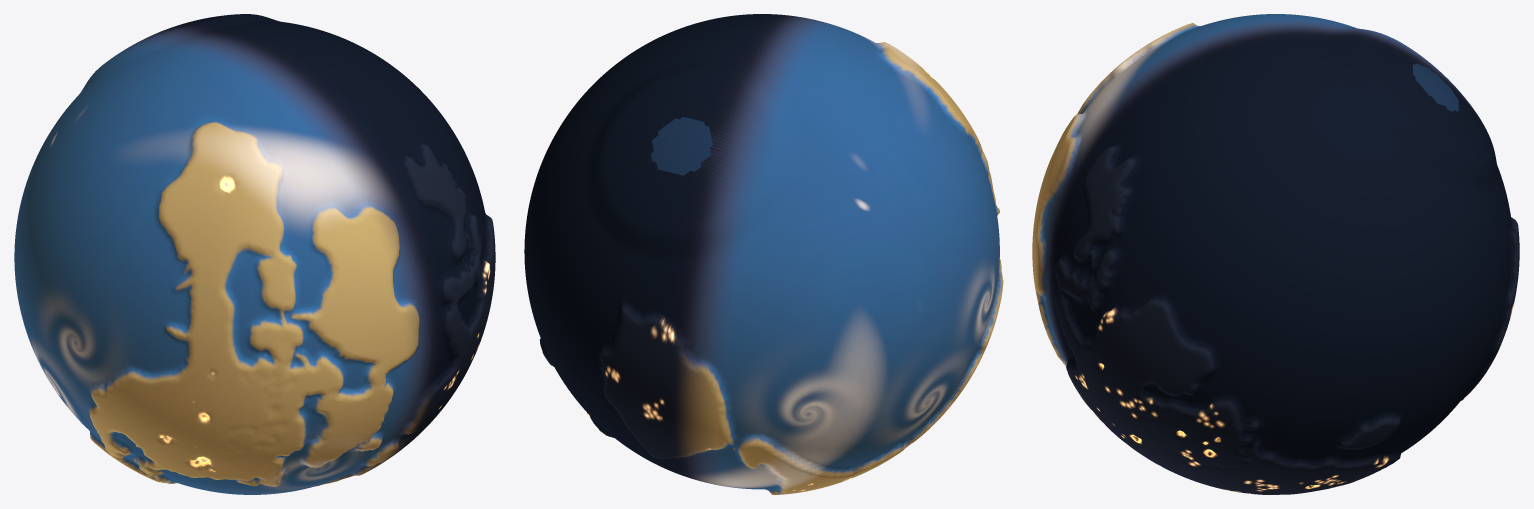
File: earth.glb
3 views of the same model, side by side, from view 1: azimuth 30°, elevation 25°; view 2: azimuth 150°, elevation 25°; view 3: azimuth 270°, elevation 25° (orthographic).
Parts seen in each view (by area): view 1: earth; view 2: earth; view 3: earth.
Boxes of the visible parts, x1,y1,x2,y2 form: earth: (14,14,495,494); earth: (524,14,1003,494); earth: (1032,14,1519,494).
Bounding box in the file's own units: 31.2 × 31.39 × 32.
1 material, 1 textured.
